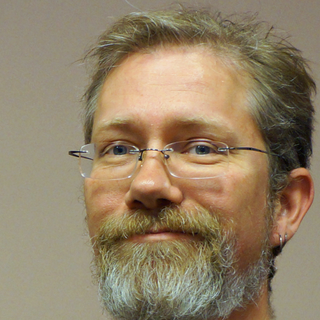eye: (98, 139, 139, 166), (181, 138, 220, 159)
